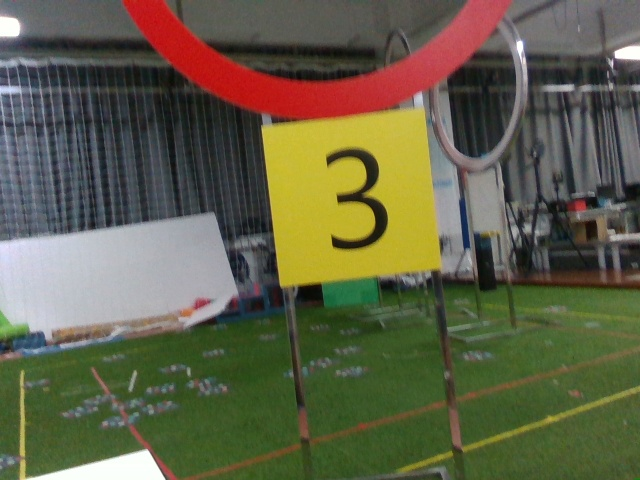target: (271, 116, 432, 276)
